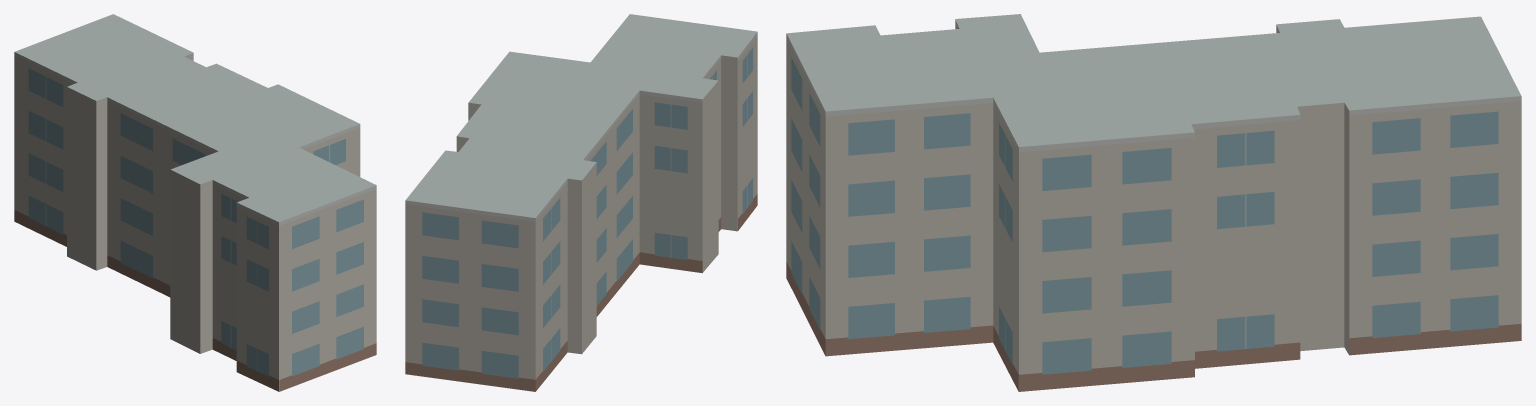
Rendered from survey-upis-32486252.glb.
3 views of the same model, side by side, from view 1: azimuth 30°, elevation 25°; view 2: azimuth 150°, elevation 25°; view 3: azimuth 270°, elevation 25° (orthographic). The views are drawn at different scales.
Visible parts, largest first — view 1: survey-upis-32486252.tmp; view 2: survey-upis-32486252.tmp; view 3: survey-upis-32486252.tmp.
Boxes of the visible parts, x1,y1,x2,y2 form: survey-upis-32486252.tmp: (14,14,376,391); survey-upis-32486252.tmp: (405,14,757,391); survey-upis-32486252.tmp: (786,14,1521,391).
Size of the model in its own units: 13.31 by 11.4 by 31.04.
